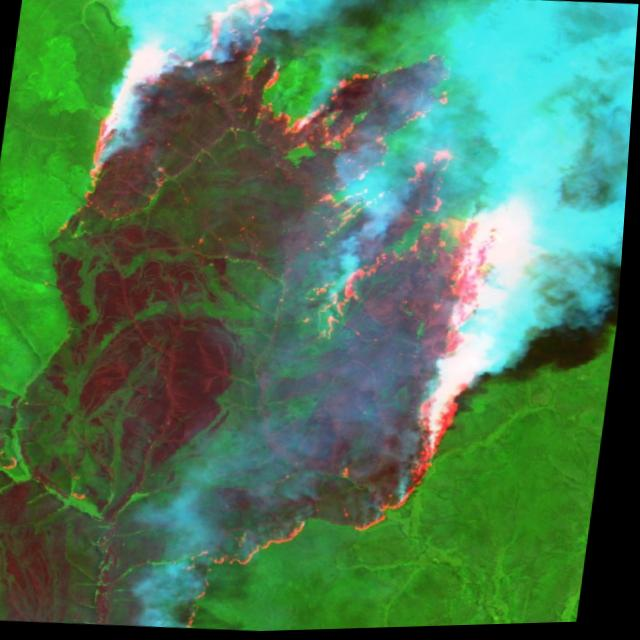fire: (18, 0, 574, 639)
